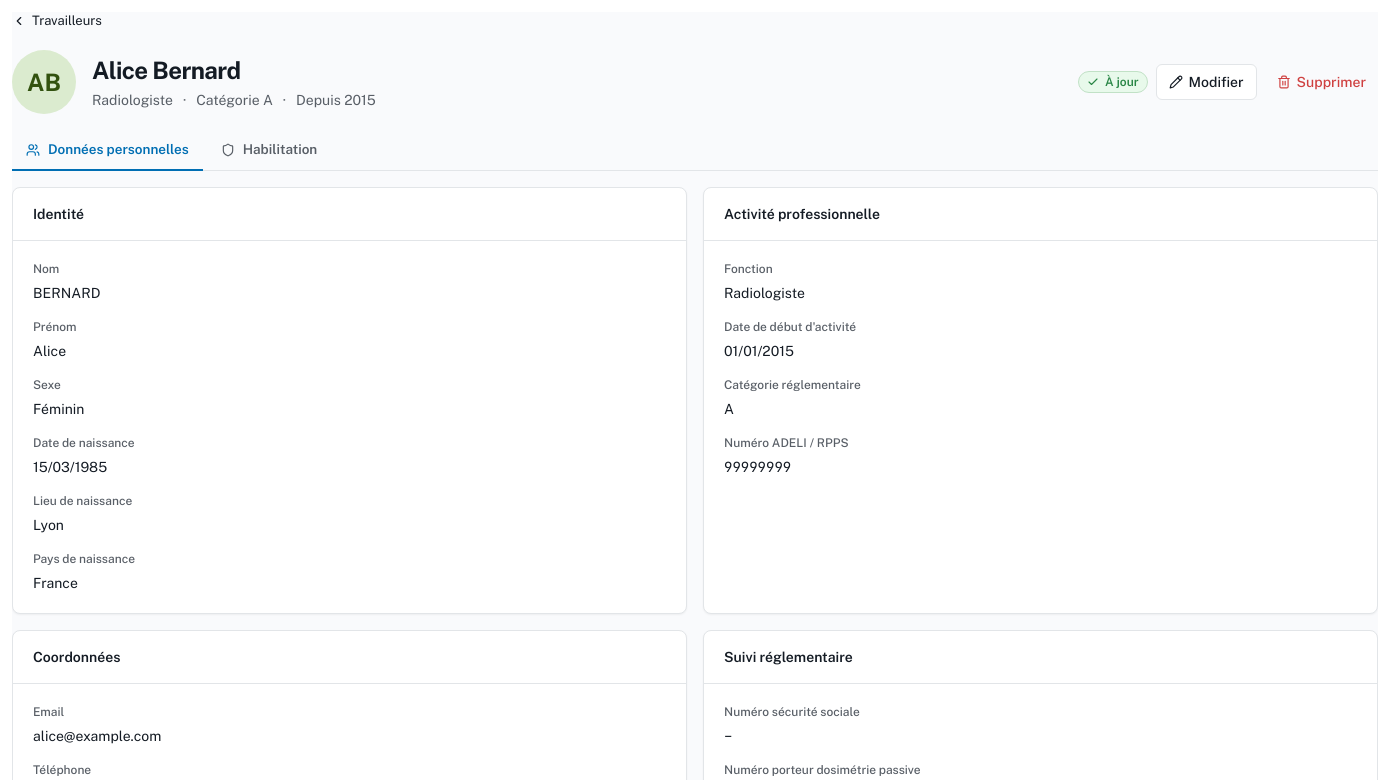
Test case: HabilitationTab — statuts des badges par item › Scénario 3 : tous les items "À jour" (deadlines dans le futur lointain) › les 5 items affichent exactement 5 badges "À jour" (+ 1 badge récapitulatif dans l'en-tête)
Click the button "Habilitation". click: click(269, 150)
box: [207,130,331,171]
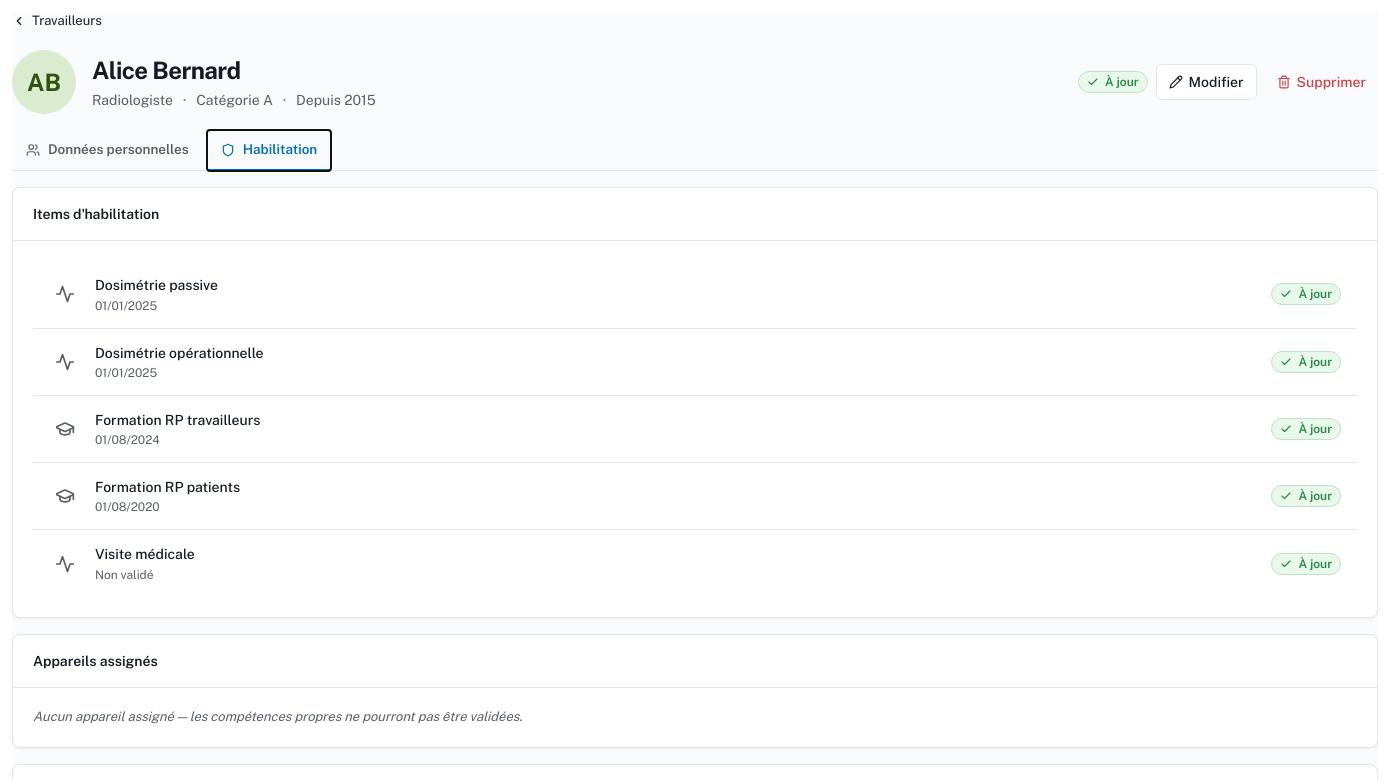
Expected: the text "Items d'habilitation" is shown, [33,204,159,224]
Expected: the text "À jour" is shown 6 times, [1078,71,1148,93]; [1272,283,1341,305]; [1272,351,1341,373]; [1272,418,1341,440]; [1272,485,1341,507]; [1272,553,1341,575]
